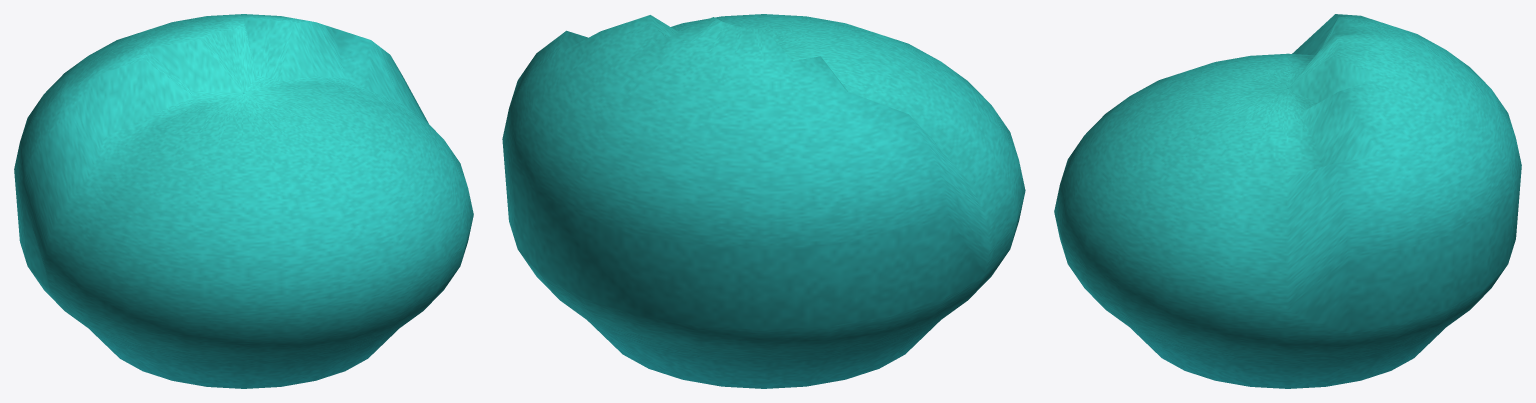
Rendered from Furn_BeanBag.fbx.
3 views of the same model, side by side, from view 1: azimuth 30°, elevation 25°; view 2: azimuth 150°, elevation 25°; view 3: azimuth 270°, elevation 25° (orthographic). The views are drawn at different scales.
Visible parts, largest first — view 1: Furn_BeanBag; view 2: Furn_BeanBag; view 3: Furn_BeanBag.
Boxes of the visible parts, box(x1,y1,x2,y2) form: Furn_BeanBag: box(14, 14, 473, 388); Furn_BeanBag: box(502, 14, 1025, 388); Furn_BeanBag: box(1054, 14, 1521, 388).
Size of the model in its own units: 1.1 by 0.732 by 1.1.
Materials: 1 (1 with a texture image).
